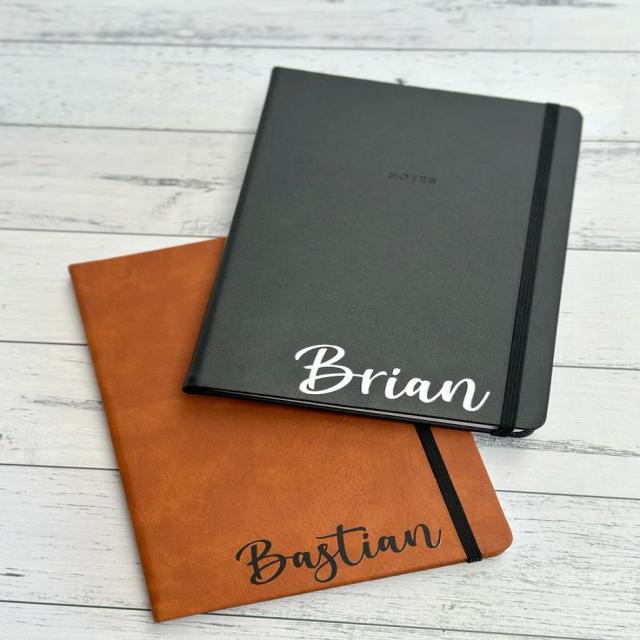book: (51, 241, 553, 616)
